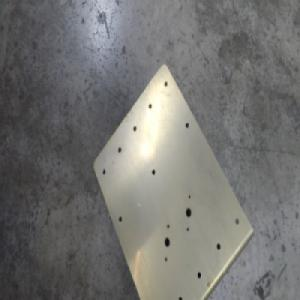MetalSheet: (91, 62, 254, 300)
